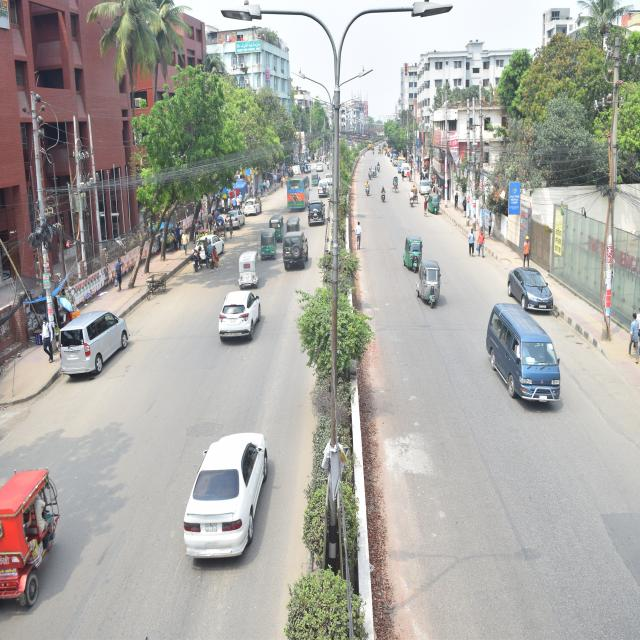car: (146, 394, 306, 575), (34, 290, 158, 399), (198, 276, 277, 349), (490, 258, 553, 316), (186, 212, 232, 273), (282, 220, 310, 293), (221, 206, 260, 243), (416, 170, 443, 211), (248, 190, 278, 223), (397, 159, 425, 194), (304, 198, 332, 230), (312, 174, 339, 206), (324, 168, 341, 194), (316, 160, 329, 174)
microbus: (475, 263, 549, 415)
motorbike: (184, 236, 208, 285), (199, 226, 223, 270), (357, 174, 373, 213), (378, 182, 389, 209), (362, 160, 373, 186), (373, 157, 384, 180), (297, 159, 309, 180)
pickup-van: (288, 156, 302, 173)
